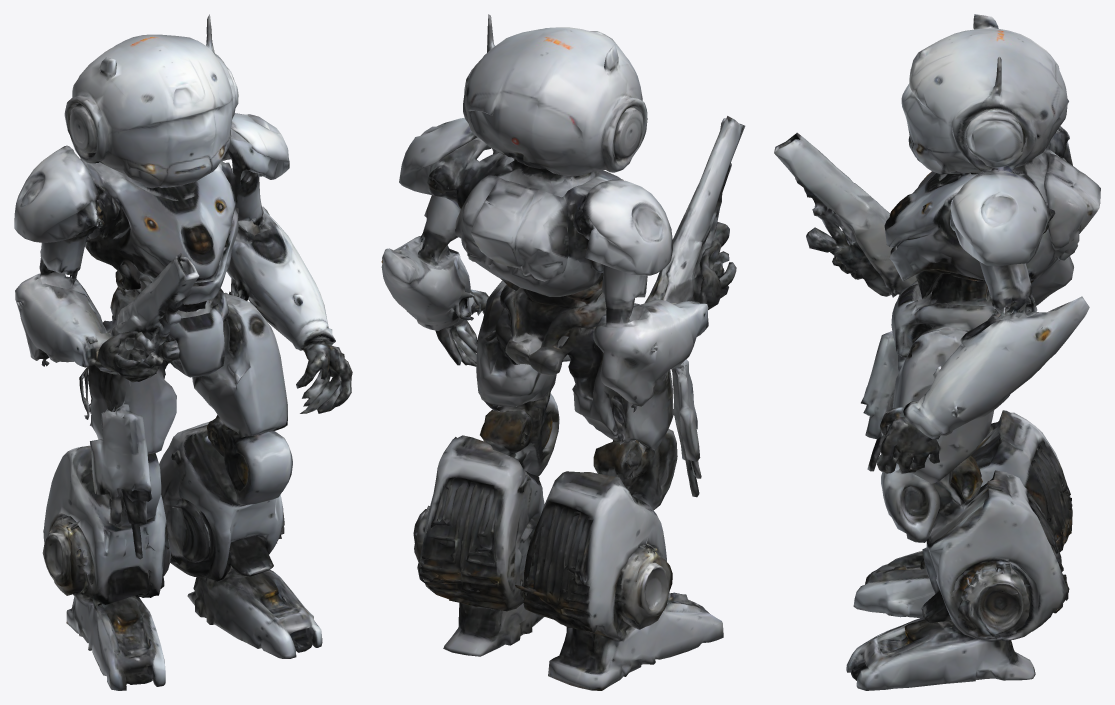
File: meshy_01972a28-1516-7be7-8aab-5a306a7fc567.glb
The picture shows the model from 3 angles, left to right: view 1: azimuth 30°, elevation 25°; view 2: azimuth 150°, elevation 25°; view 3: azimuth 270°, elevation 25°; orthographic projection. The views are drawn at different scales.
Size of the model in its own units: 0.9481 by 2 by 0.9715.
Materials: 1 (1 with a texture image).
